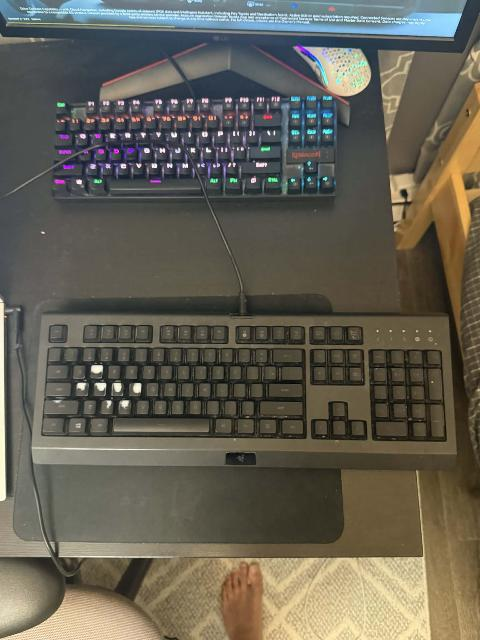ahkeyboard: (22, 299, 466, 483)
